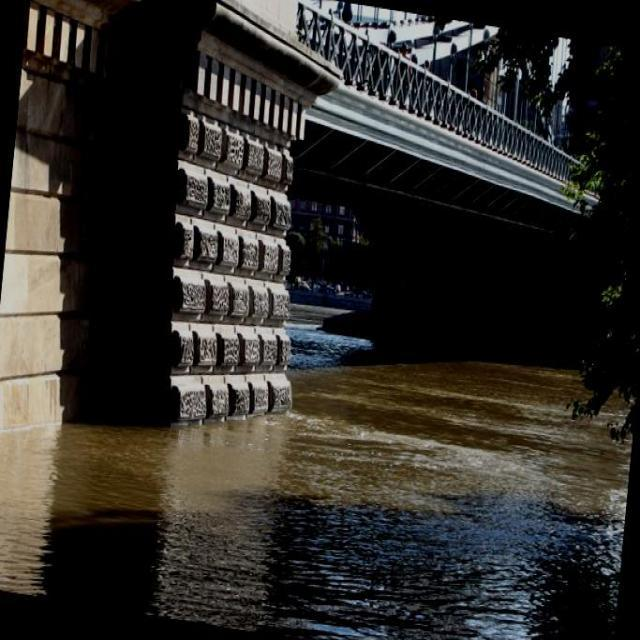flood: (0, 273, 638, 639)
